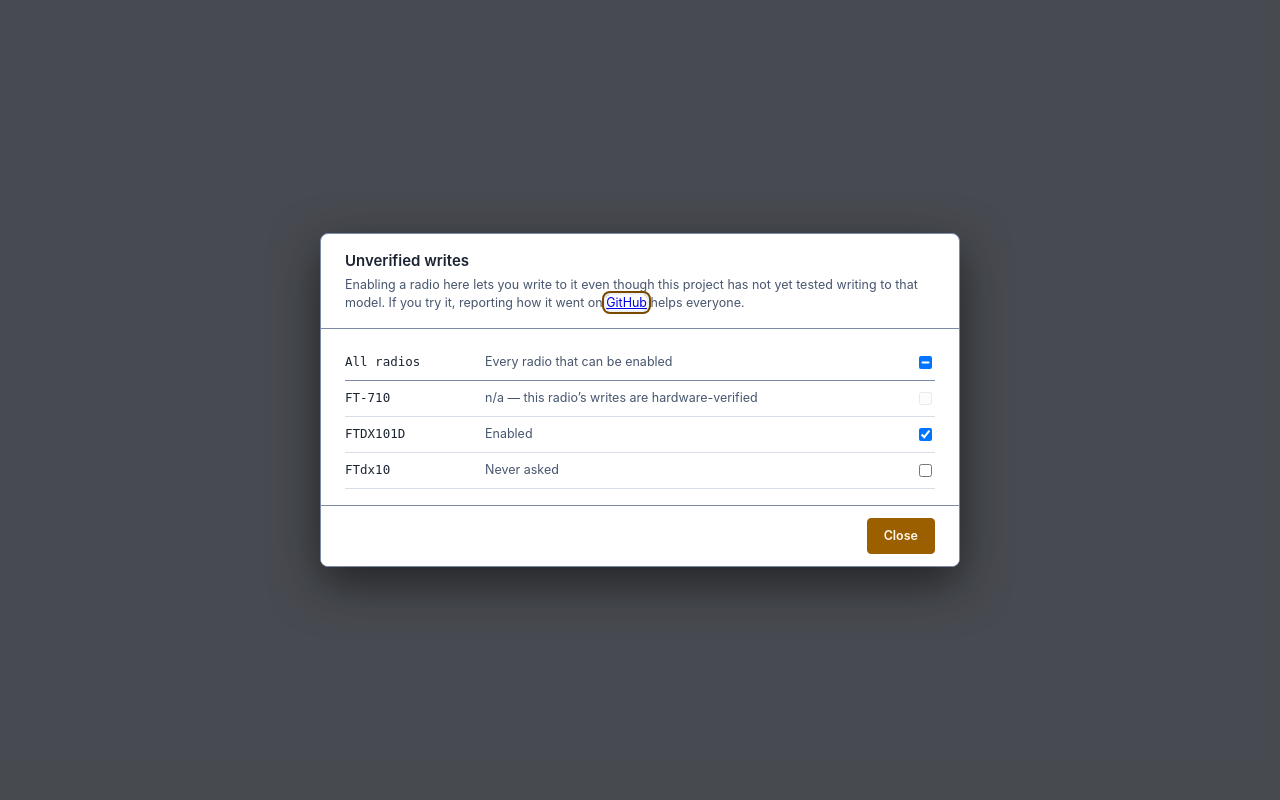
Scenario: grants panel (manage mode) › a refused change is shown inline and leaves the panel open, with the toggle back where the store says it belongs
The width and height of the screenshot is (1280, 800).
Click the checkbox named "Unverified writes for FTdx10" at {"x": 926, "y": 470}, box x1=919 y1=464 x2=932 y2=477
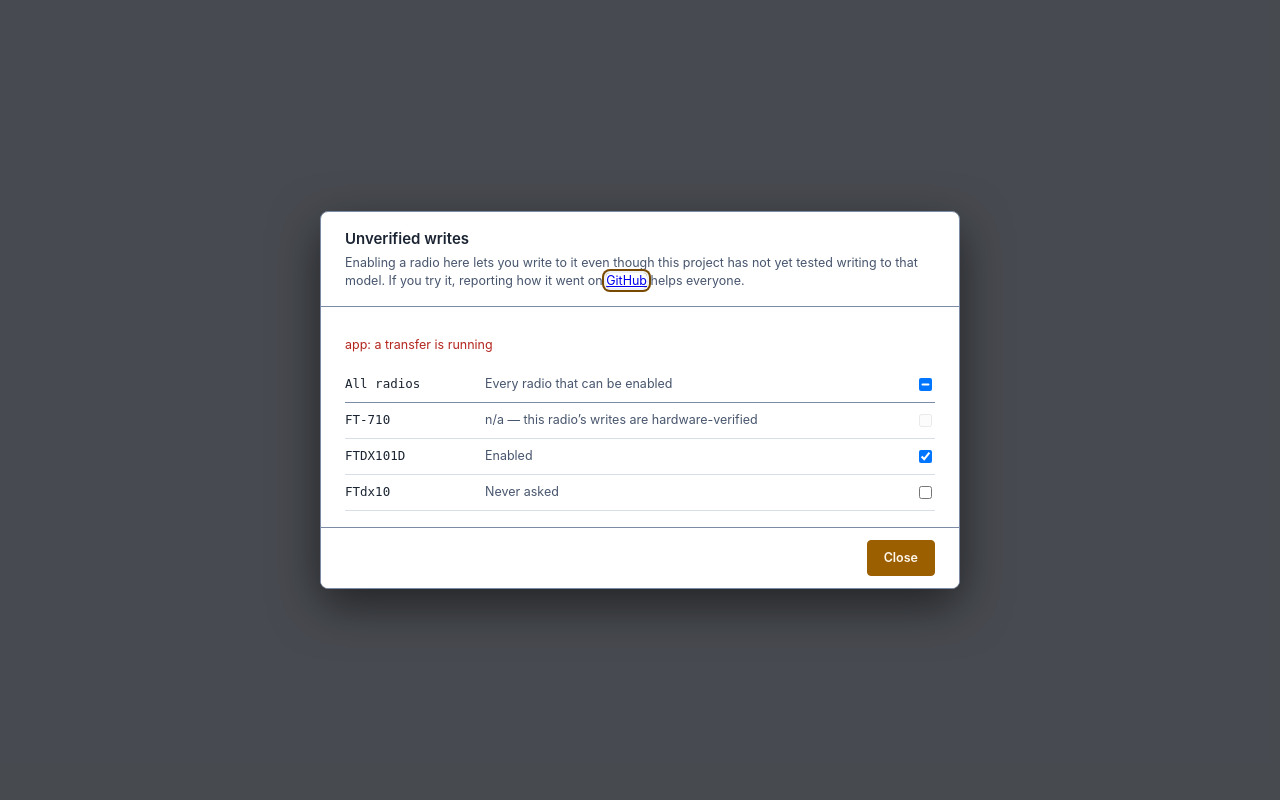
Expected: the checkbox named "Unverified writes for FTdx10" is not checked, x1=919 y1=486 x2=932 y2=498
Expected: the text "app: a transfer is running" is shown, x1=345 y1=337 x2=493 y2=352
